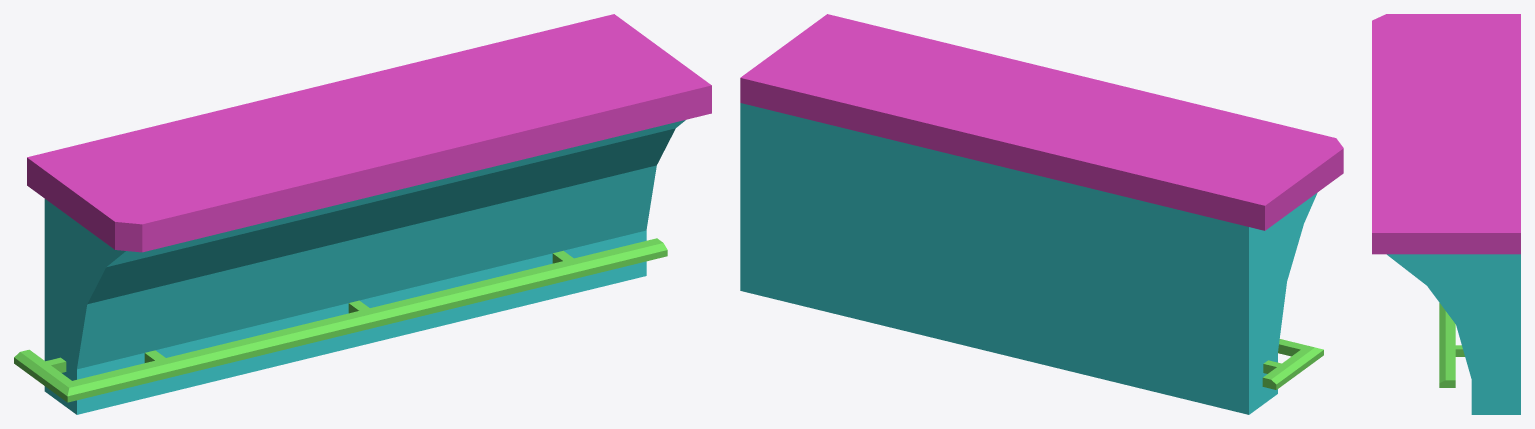
The model's file is Desk_06_Corner.fbx.
3 views of the same model, side by side, from view 1: azimuth 30°, elevation 25°; view 2: azimuth 150°, elevation 25°; view 3: azimuth 270°, elevation 25° (orthographic). The views are drawn at different scales.
Parts seen in each view (by area): view 1: Desk_06_Corner; view 2: Desk_06_Corner; view 3: Desk_06_Corner.
Boxes of the visible parts, x1=… form: Desk_06_Corner: x1=14, y1=14, x2=711, y2=414; Desk_06_Corner: x1=740, y1=14, x2=1343, y2=414; Desk_06_Corner: x1=1372, y1=14, x2=1520, y2=414.
Size of the model in its own units: 241 by 91.44 by 67.81.
